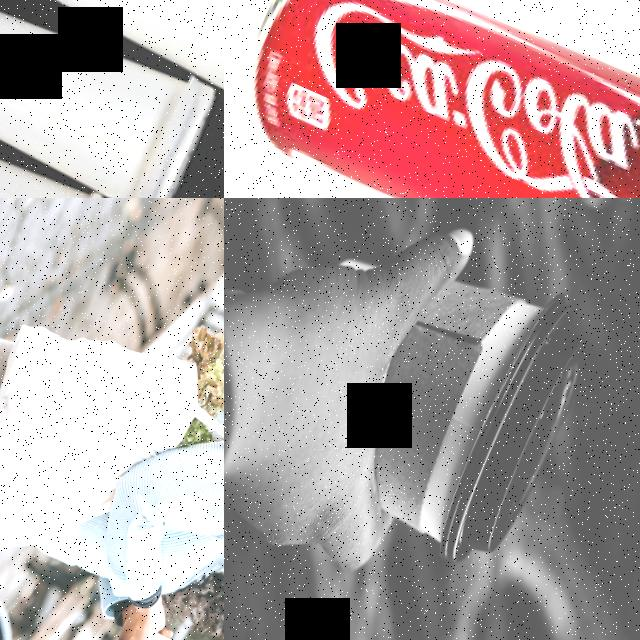can: (224, 0, 640, 198)
cup: (247, 212, 604, 577), (0, 0, 221, 198), (0, 0, 224, 136), (0, 99, 109, 198), (117, 623, 198, 640)
